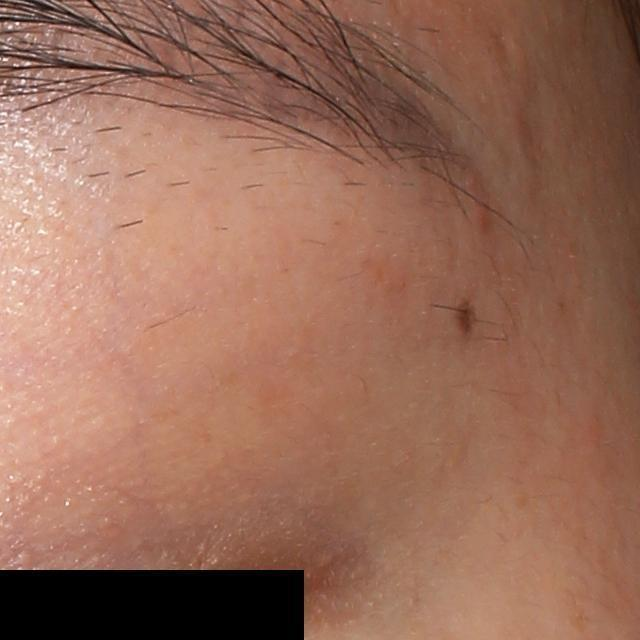nevus: (453, 298, 478, 335)
